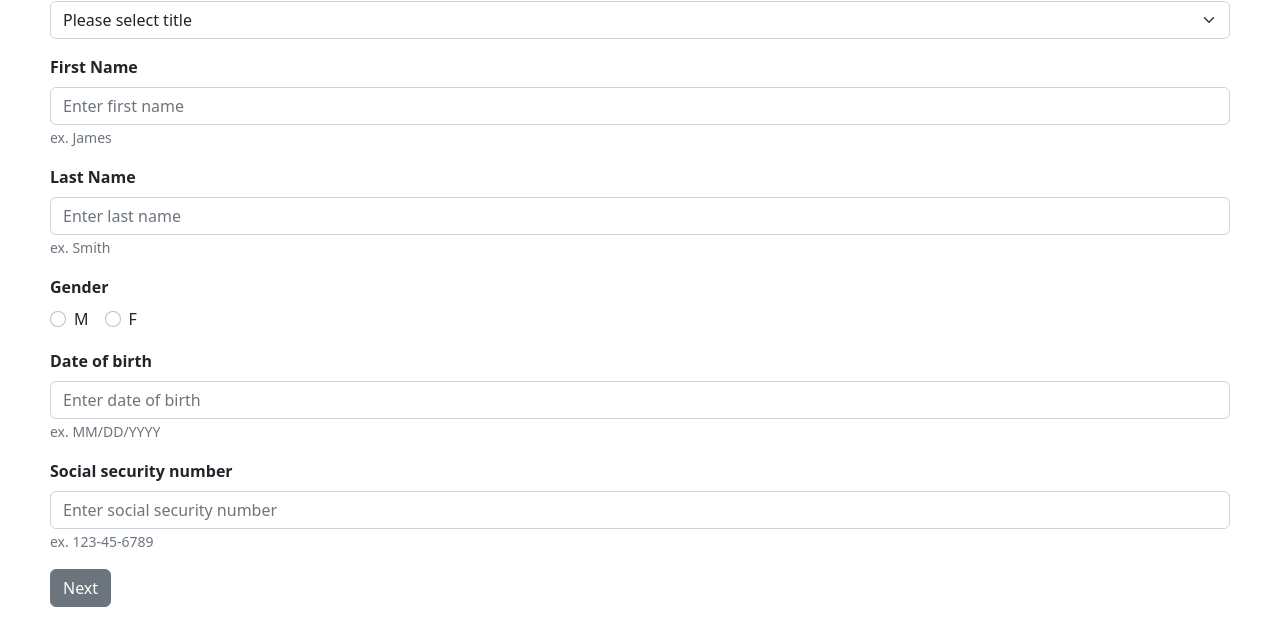
Test case: FormCreateChecking tests › Should display form incomplete alert
(page scrolled)
Click the button "Next" at x=81, y=588, box [50,569,111,607]
(page scrolled)
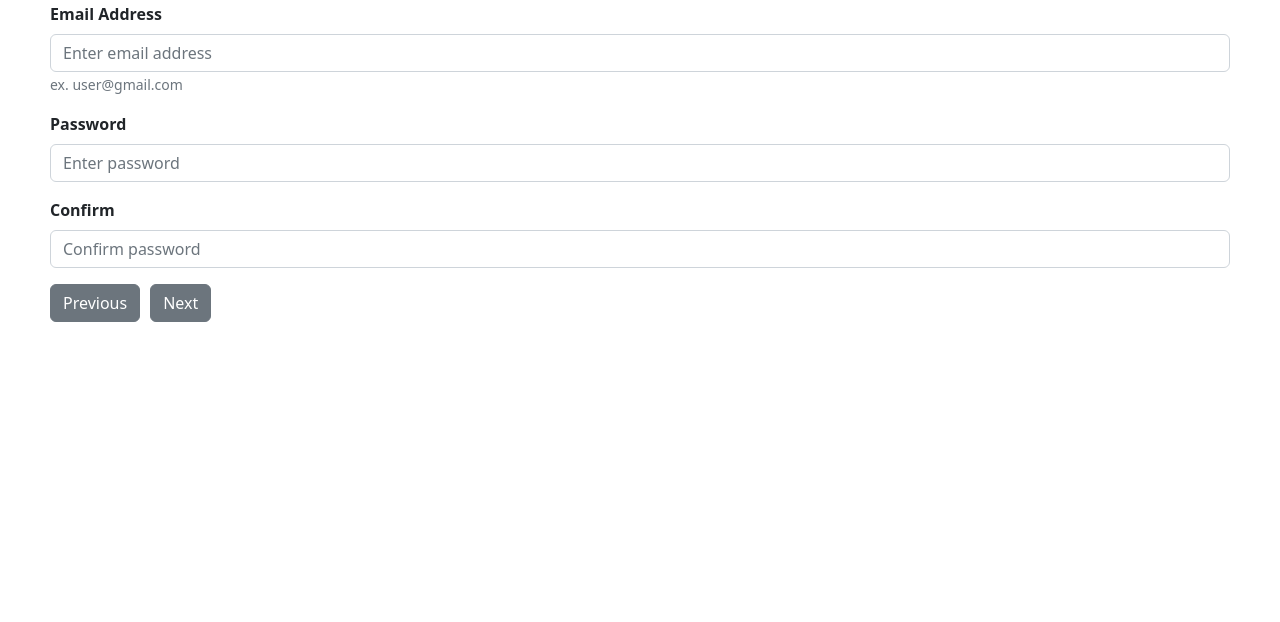
Click the button "Next" at x=181, y=303, box [150,284,211,322]
(page scrolled)
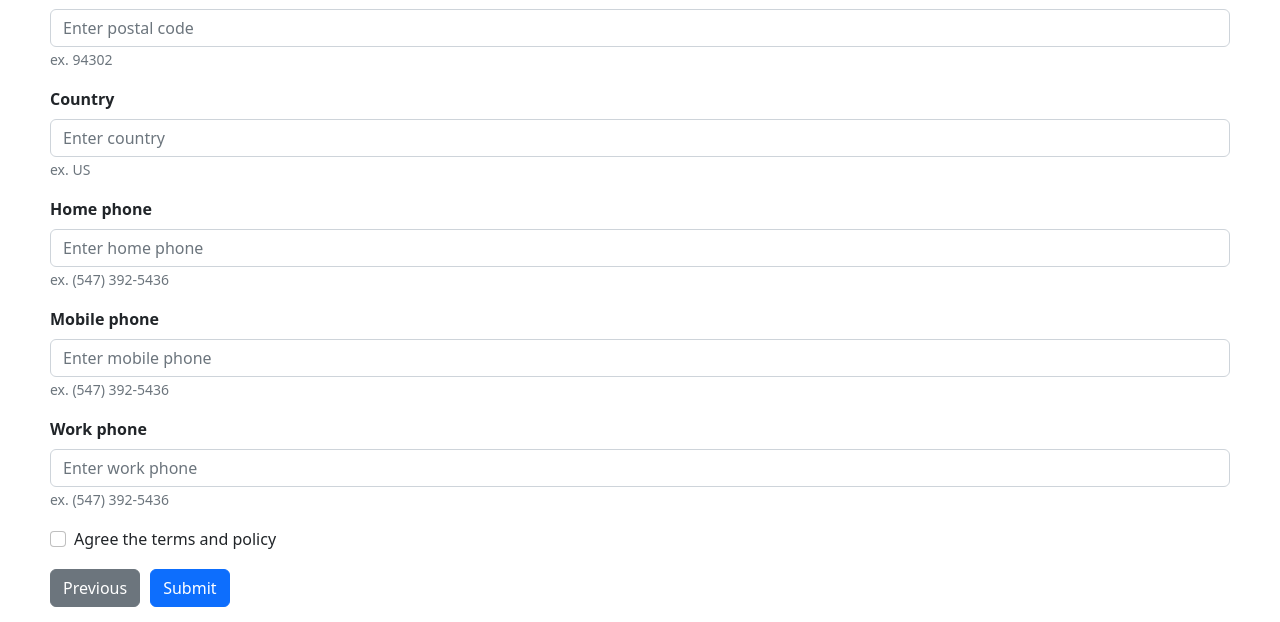
Click the button "Submit" at x=190, y=588, box [150,569,230,607]
(page scrolled)
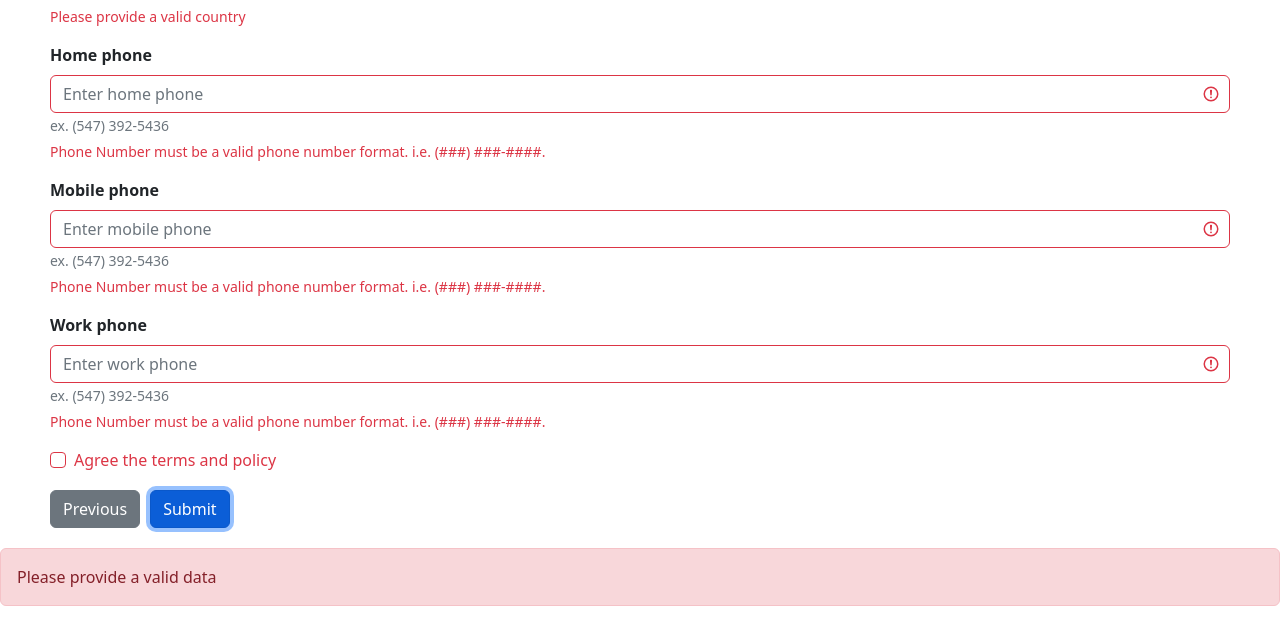
Now the text "Please provide a valid data" is shown, box [0,548,1279,606]
